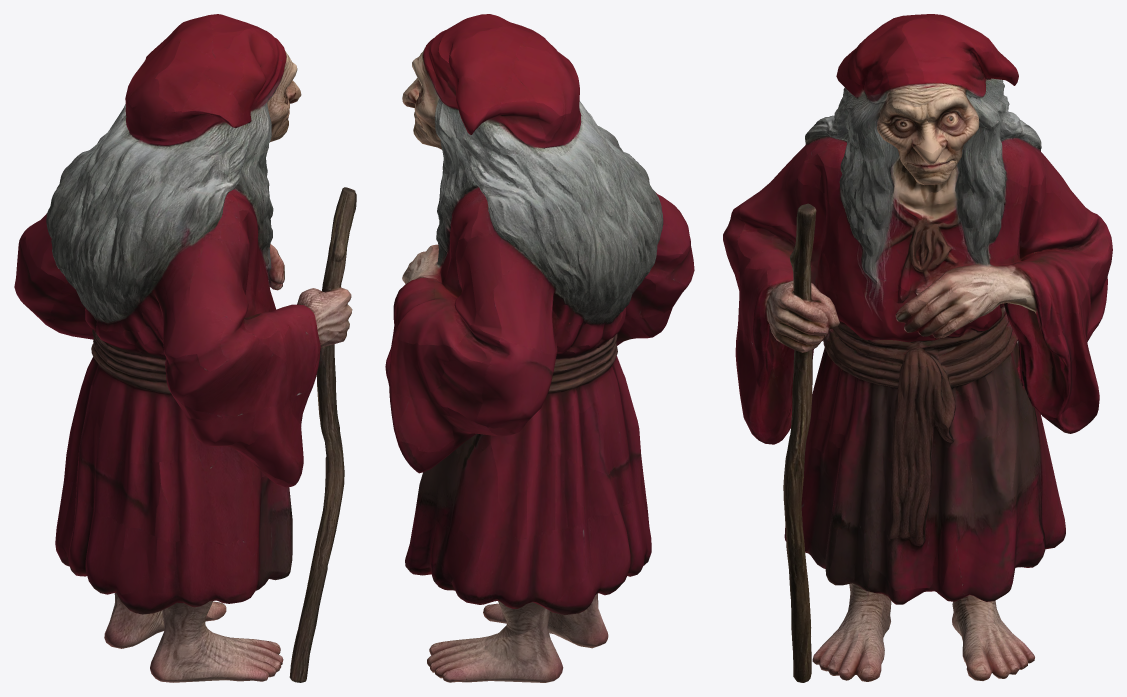
Rendered from baba_jaga.glb.
3 views of the same model, side by side, from view 1: azimuth 30°, elevation 25°; view 2: azimuth 150°, elevation 25°; view 3: azimuth 270°, elevation 25° (orthographic). The views are drawn at different scales.
Parts seen in each view (by area): view 1: baba_jaga; view 2: baba_jaga; view 3: baba_jaga.
Boxes of the visible parts, x1,y1,x2,y2 form: baba_jaga: (14, 14, 356, 682); baba_jaga: (385, 14, 694, 682); baba_jaga: (723, 14, 1112, 682).
Size of the model in its own units: 0.6232 by 1.6 by 0.873.
Materials: 1 (1 with a texture image).
